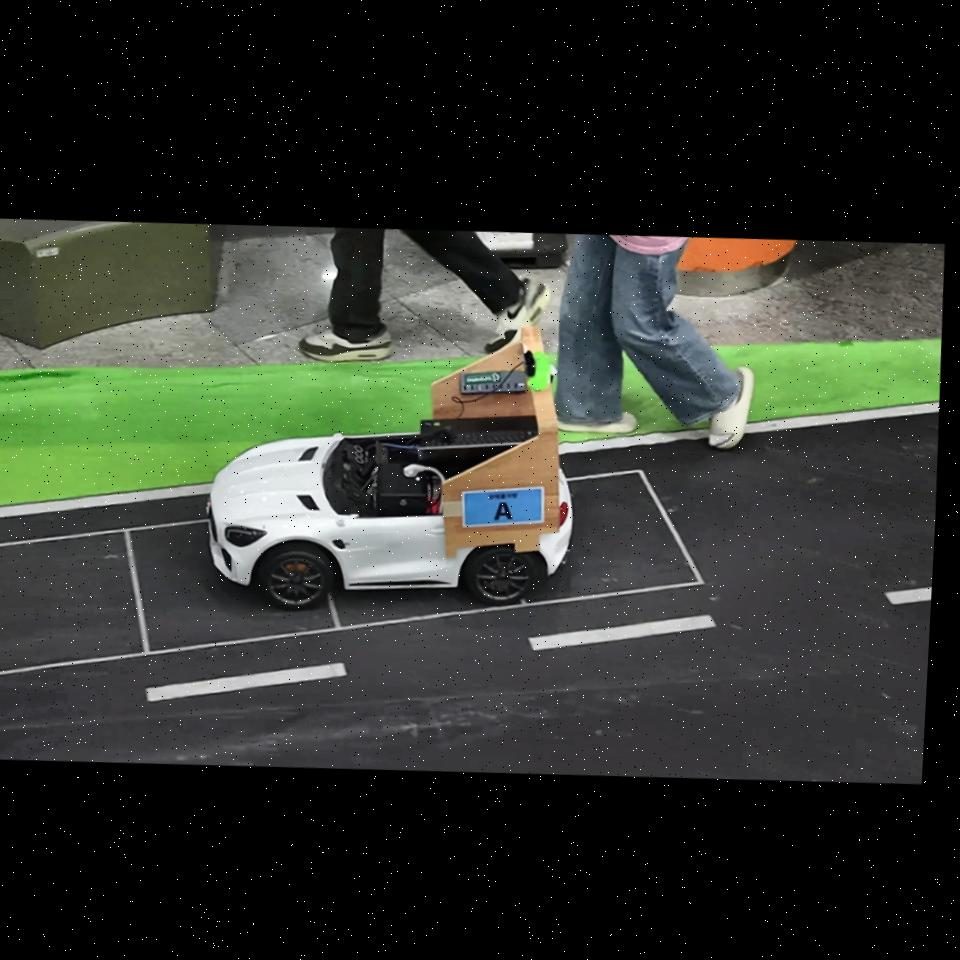broken_line: (145, 662, 348, 702), (527, 614, 717, 651), (884, 587, 932, 605)
